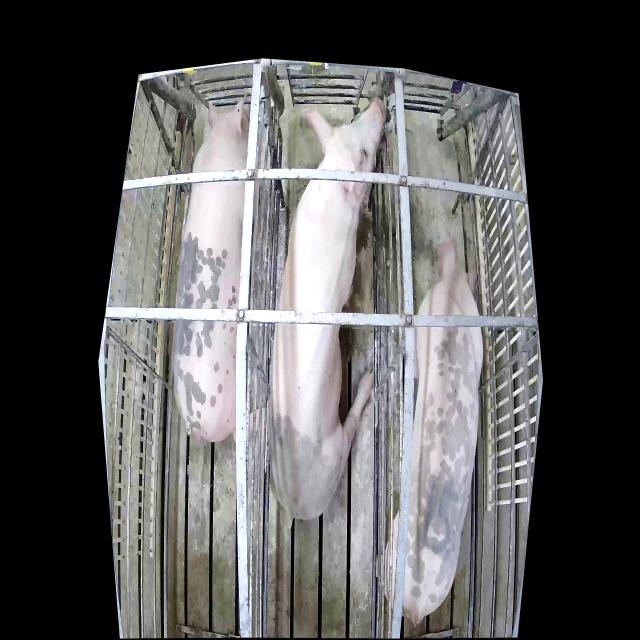pig: (268, 100, 385, 518), (385, 237, 482, 624), (174, 91, 250, 441)
